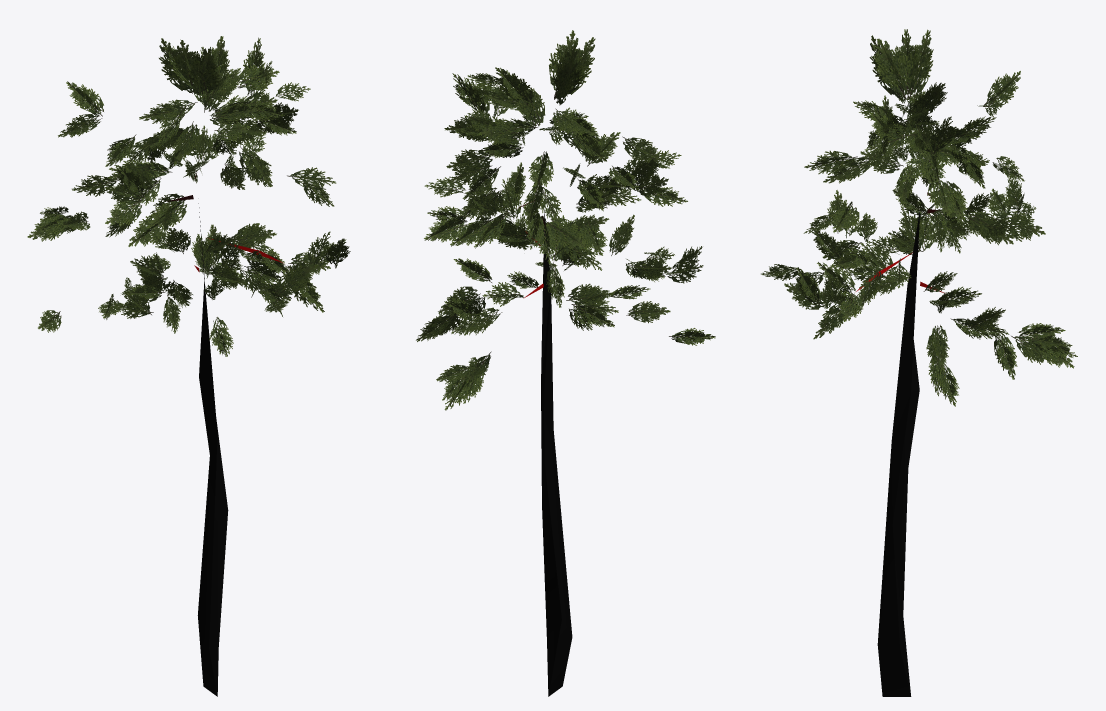
The model's file is pine1 lod4.FBX.
3 views of the same model, side by side, from view 1: azimuth 30°, elevation 25°; view 2: azimuth 150°, elevation 25°; view 3: azimuth 270°, elevation 25° (orthographic).
Parts seen in each view (by area): view 1: pine002_LOD4; view 2: pine002_LOD4; view 3: pine002_LOD4.
Boxes of the visible parts, x1,y1,x2,y2 form: pine002_LOD4: [27, 36, 350, 696]; pine002_LOD4: [416, 30, 715, 696]; pine002_LOD4: [761, 29, 1077, 696].
Size of the model in its own units: 122774 by 259174 by 119641.
